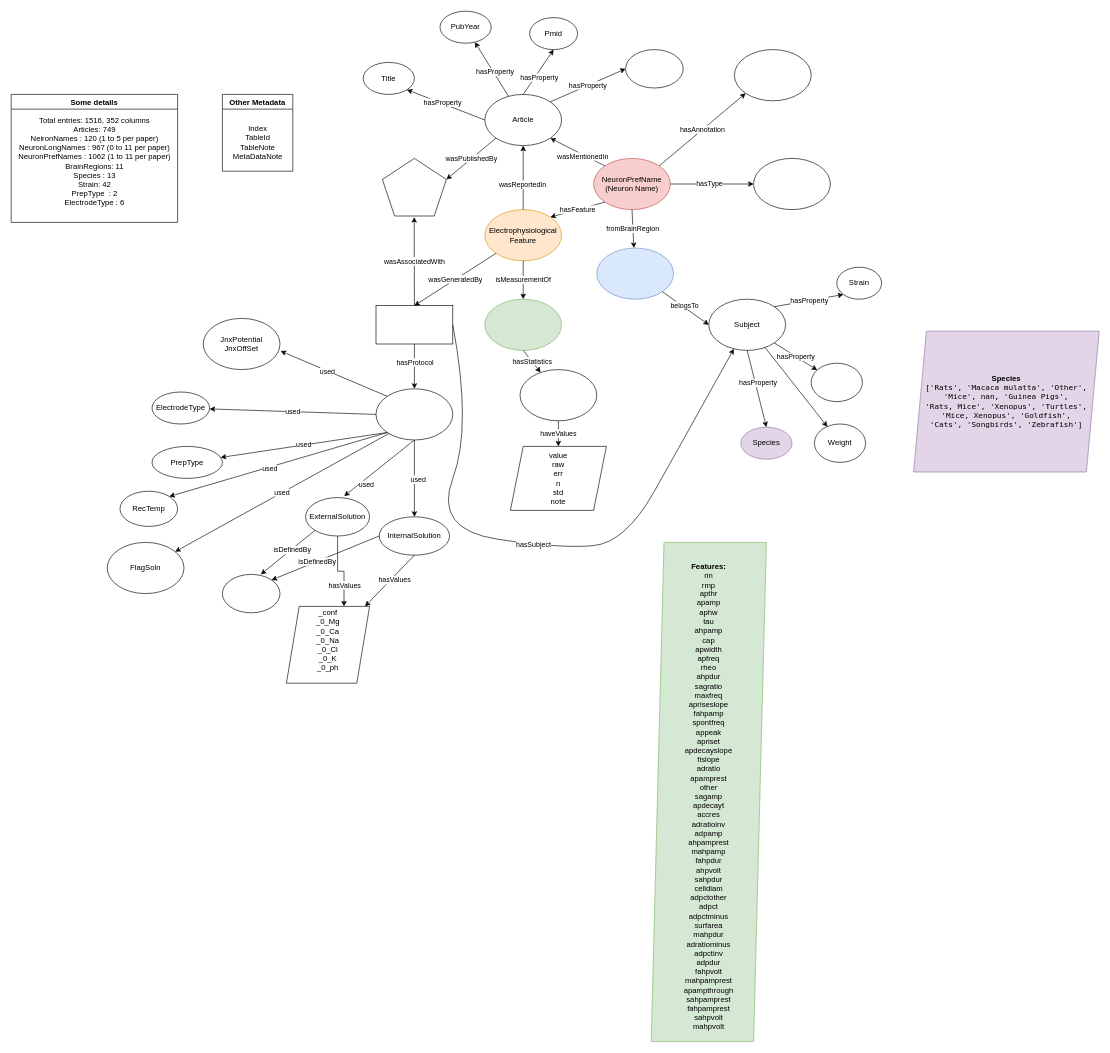
The diagram is 1110 pixels wide and 1053 high, and some of its shapes have lost their labels. Here are the shapes that lost their labels. From the top down, the centre of each, then its label:
point (654, 68): ArticleID
point (772, 75): NeuronNETAnnots
point (414, 187): LastAuthor
point (791, 184): NeuronName (Cell type)
point (635, 273): BrainRegion
point (414, 324): Experiment
point (523, 324): Property
point (558, 395): Statistics
point (836, 382): Age
point (414, 414): Protocol
point (251, 593): (description)
